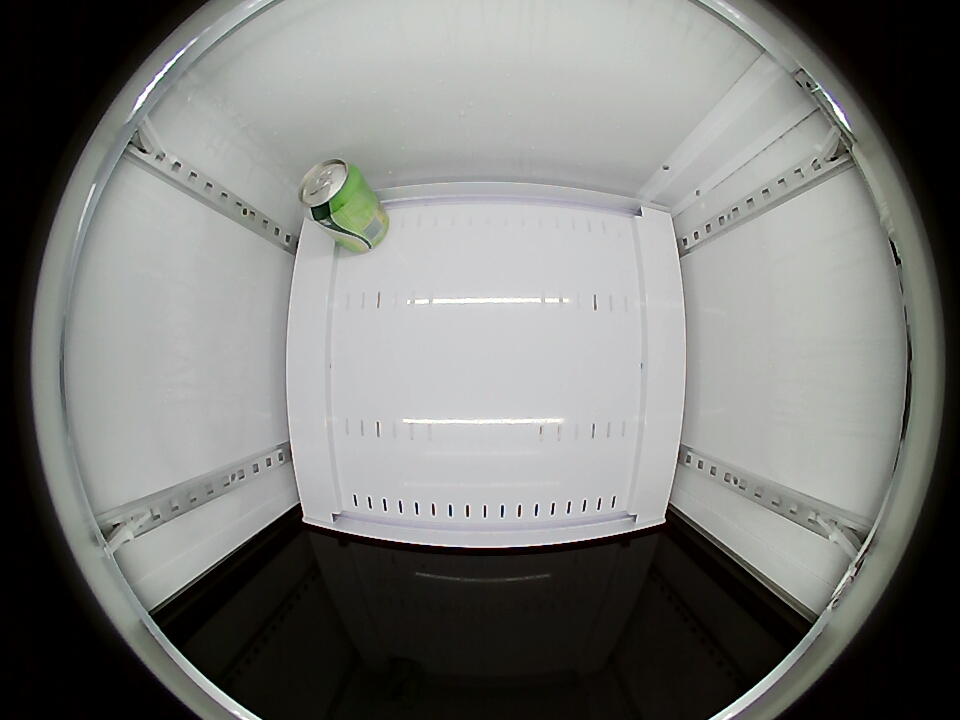quchenshixiangcao: (298, 159, 363, 223)
